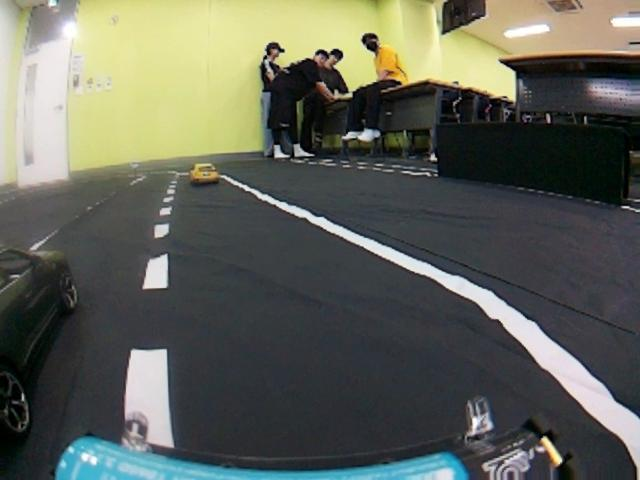car: (0, 240, 95, 480), (184, 163, 223, 186)
straight: (128, 196, 640, 475)
